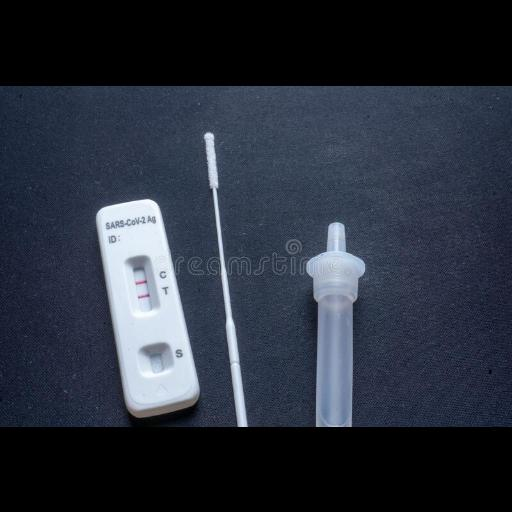Pos: (94, 197, 202, 411)
